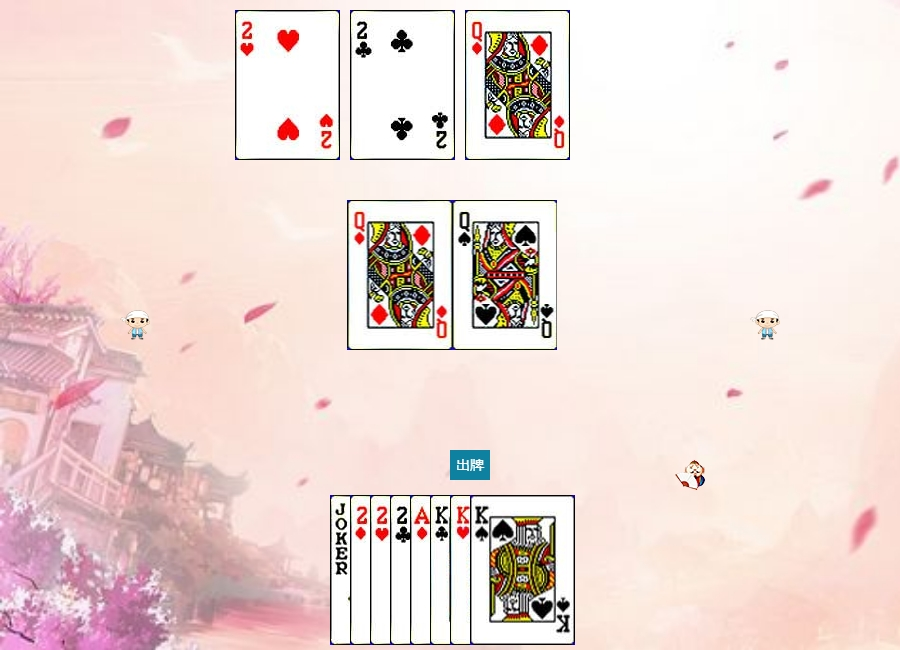12~1: (465, 10, 570, 160), (348, 200, 453, 350)
12~4: (453, 200, 558, 350)
13~2: (430, 495, 535, 645)
13~3: (450, 495, 555, 645)
13~4: (470, 495, 575, 645)
14~1: (410, 495, 515, 645)
15~1: (350, 495, 455, 645)
15~2: (350, 10, 455, 160), (390, 495, 495, 645)
15~3: (235, 10, 340, 160), (370, 495, 475, 645)
17~3: (330, 495, 435, 645)
